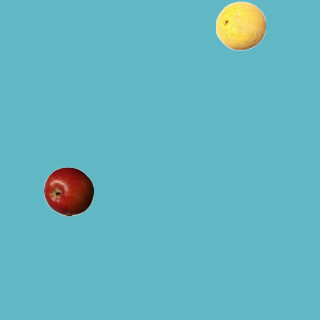Apple Braeburn: (43, 166, 93, 216)
Cantaloupe 1: (215, 0, 265, 50)
